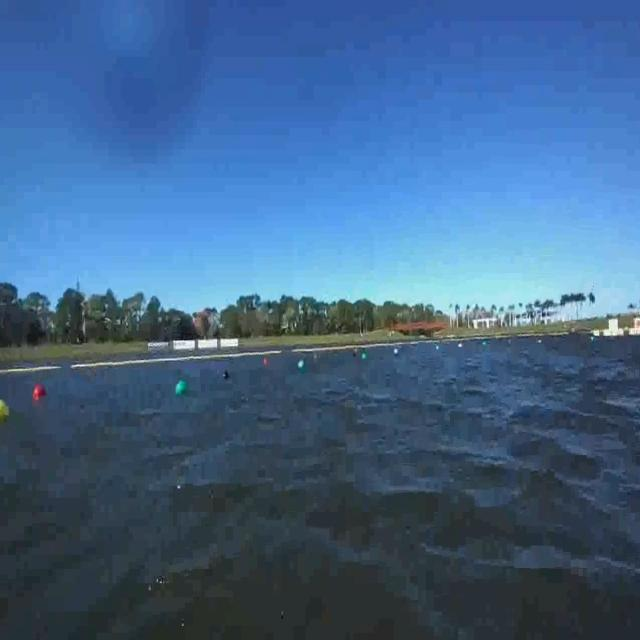green-buoy: (178, 378, 191, 394)
red-buoy: (32, 382, 45, 399)
yellow-buoy: (0, 398, 9, 420)
